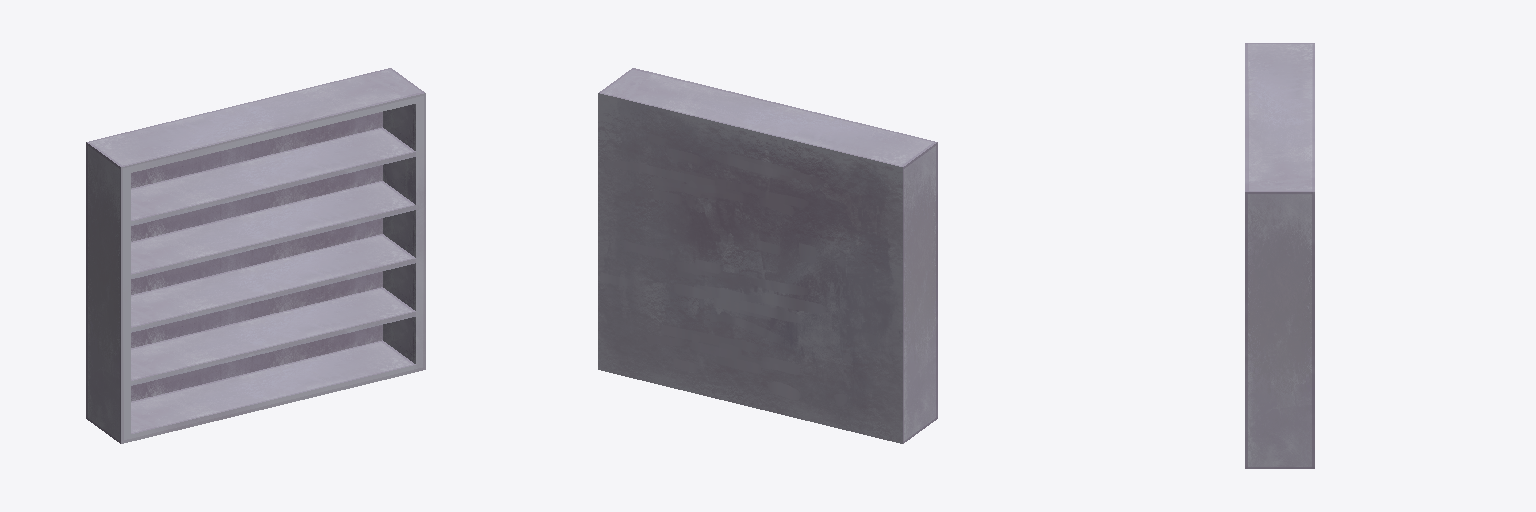
The picture shows the model from 3 angles: view 1: azimuth 30°, elevation 25°; view 2: azimuth 150°, elevation 25°; view 3: azimuth 270°, elevation 25°; orthographic projection.
Visible parts, largest first — view 1: ShelfLarge; view 2: ShelfLarge; view 3: ShelfLarge.
Boxes of the visible parts, box(x1,y1,x2,y2) form: ShelfLarge: box(86, 68, 425, 443); ShelfLarge: box(598, 68, 937, 443); ShelfLarge: box(1245, 43, 1314, 468).
Bounding box in the file's own units: 4.13 × 3.59 × 0.8128.
Materials: 1 (1 with a texture image).